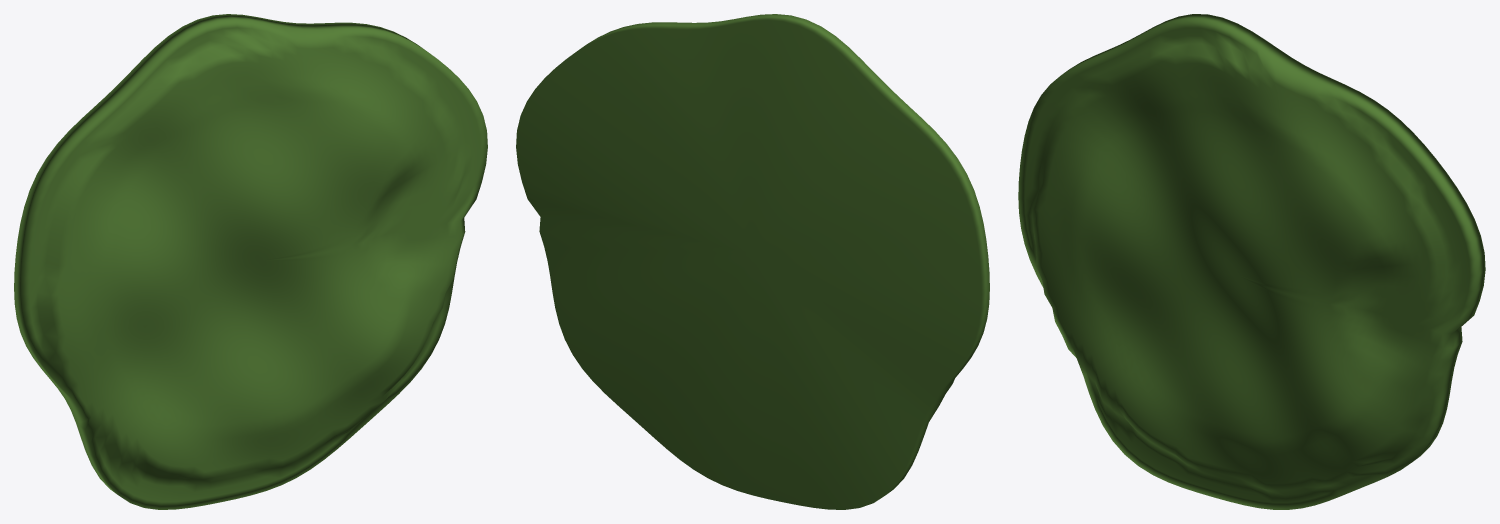
Rendered from island_terrain.obj.
The picture shows the model from 3 angles, left to right: view 1: azimuth 30°, elevation 25°; view 2: azimuth 150°, elevation 25°; view 3: azimuth 330°, elevation 25°; orthographic projection.
Parts seen in each view (by area): view 1: tropical_island; view 2: tropical_island; view 3: tropical_island.
Part boxes in pixels (box(x1,y1,x2,y2)): tropical_island: box(14, 14, 487, 509); tropical_island: box(516, 14, 989, 509); tropical_island: box(1018, 14, 1485, 509).
Size of the model in its own units: 127 by 126 by 12.54.
